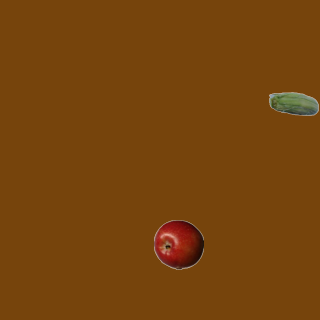Apple Braeburn: (153, 219, 203, 269)
Corn Husk: (268, 80, 318, 130)
